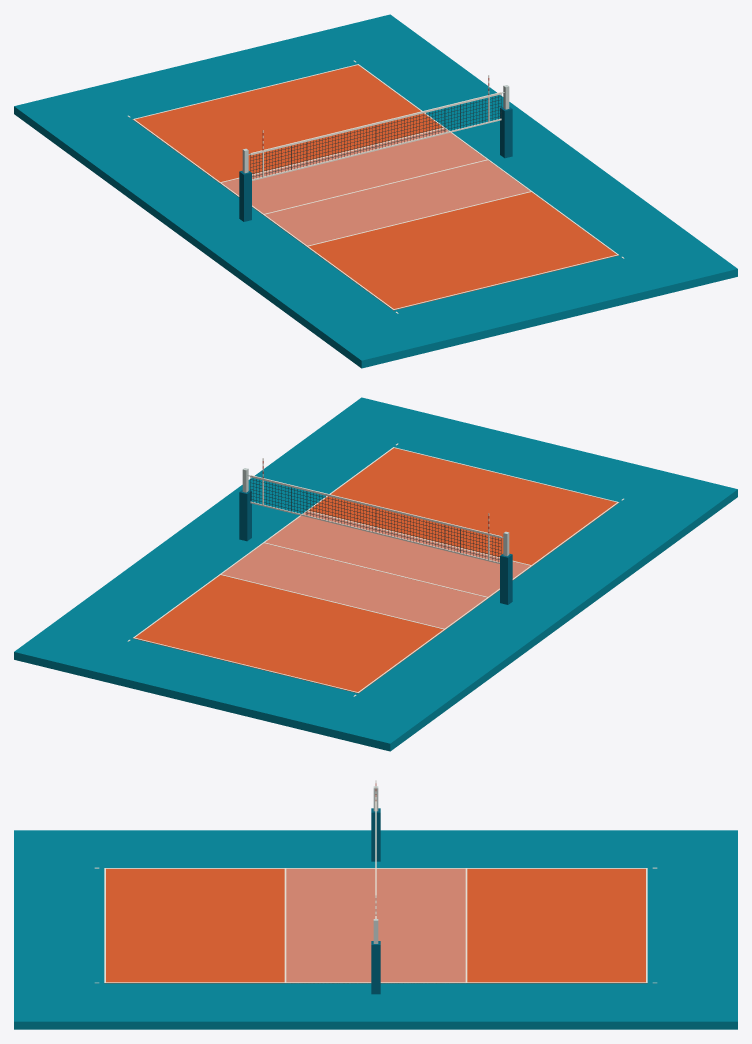
The model's file is court.glb.
3 renders of one model, top to bottom at view 1: azimuth 30°, elevation 25°; view 2: azimuth 150°, elevation 25°; view 3: azimuth 270°, elevation 25°, orthographic. The views are drawn at different scales.
Visible parts, largest first — view 1: Orange and turquoise volleyball court; view 2: Orange and turquoise volleyball court; view 3: Orange and turquoise volleyball court.
Boxes of the visible parts, x1=… form: Orange and turquoise volleyball court: x1=14, y1=14, x2=737, y2=368; Orange and turquoise volleyball court: x1=14, y1=397, x2=737, y2=751; Orange and turquoise volleyball court: x1=14, y1=780, x2=737, y2=1029.
Size of the model in its own units: 15 by 3.53 by 24.
